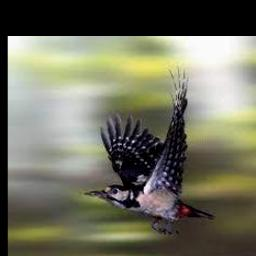Woodpecker: (85, 66, 215, 233)
